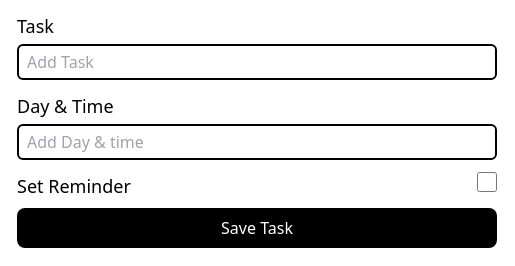
Test case: Add Task Component › tests by adding value to form
Type "first" into the field named "task-input".
click(257, 62); type("first")  # box [17,44,497,80]
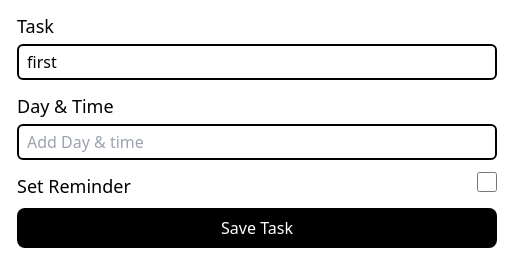
Type "Feb 14, 2024" into the field named "day-input".
click(257, 142); type("Feb 14, 2024")  # box [17,124,497,160]
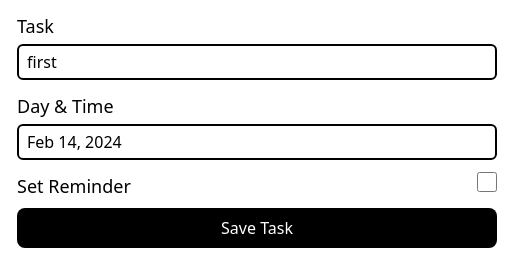
Click the button "Save Task".
click(257, 228)  # box [17,208,497,248]
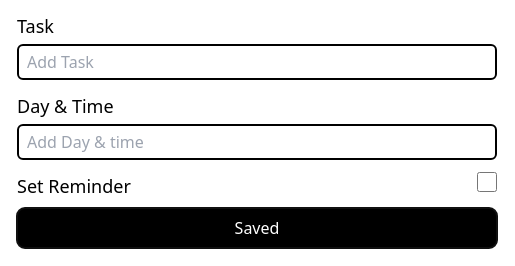
Result: the button "Saved" is shown at [17,208,497,248]
